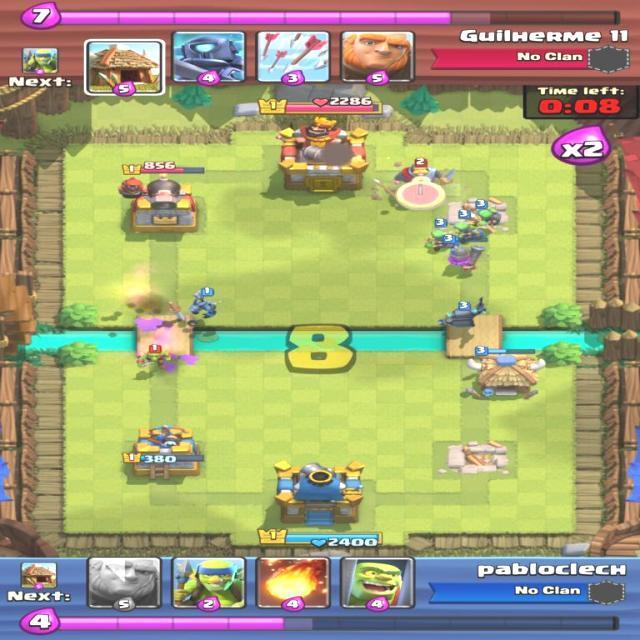ECannoneerTower: (133, 176, 196, 233)
EGoblin: (136, 345, 177, 373)
EKingTower: (281, 124, 366, 187)
EKnight: (394, 156, 456, 188)
OGoblinHut: (470, 344, 543, 404)
OMiniPekka: (439, 294, 489, 331)
OMusk: (442, 243, 493, 271)
OSpearGoblin: (451, 221, 489, 244), (472, 203, 502, 229), (427, 227, 456, 252)
OwnKingTower: (275, 465, 376, 530)
OwnPrincessTower: (126, 423, 202, 476)
TowerDown: (431, 438, 519, 478), (441, 193, 519, 233)
ominion: (187, 287, 223, 324)
